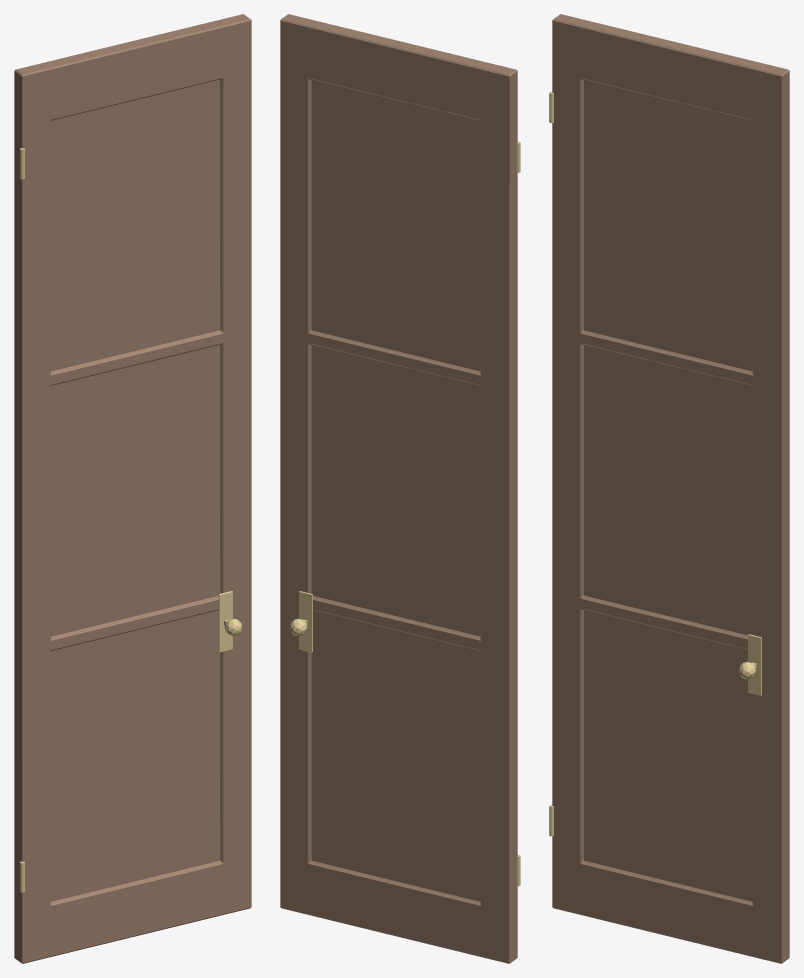
The model's file is door_leaf_front.glb.
The picture shows the model from 3 angles, left to right: view 1: azimuth 30°, elevation 25°; view 2: azimuth 150°, elevation 25°; view 3: azimuth 330°, elevation 25°; orthographic projection.
Parts seen in each view (by area): view 1: door_leaf_front_door, door_leaf_front_brass; view 2: door_leaf_front_door, door_leaf_front_brass; view 3: door_leaf_front_door, door_leaf_front_brass.
Boxes of the visible parts, x1=… form: door_leaf_front_door: x1=14, y1=14, x2=251, y2=963; door_leaf_front_brass: x1=20, y1=148, x2=242, y2=892; door_leaf_front_door: x1=280, y1=14, x2=517, y2=963; door_leaf_front_brass: x1=289, y1=141, x2=520, y2=886; door_leaf_front_door: x1=552, y1=14, x2=789, y2=963; door_leaf_front_brass: x1=549, y1=91, x2=761, y2=836.
Bounding box in the file's own units: 0.828 × 3.03 × 0.206.
